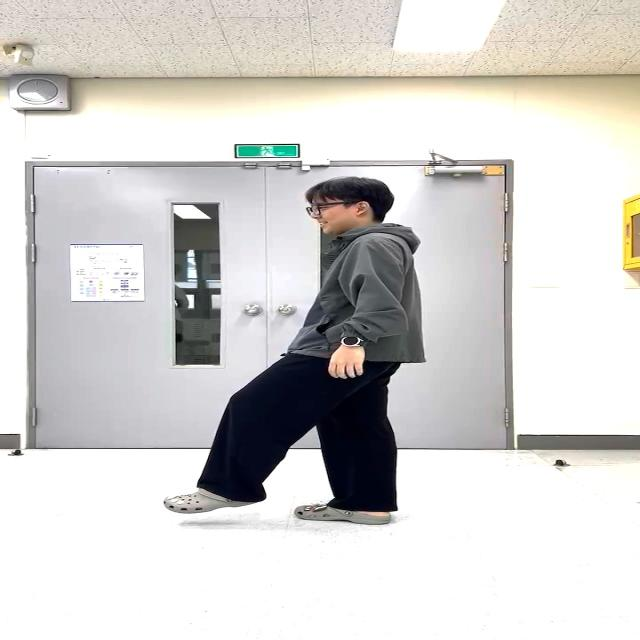leg: (158, 354, 332, 521)
